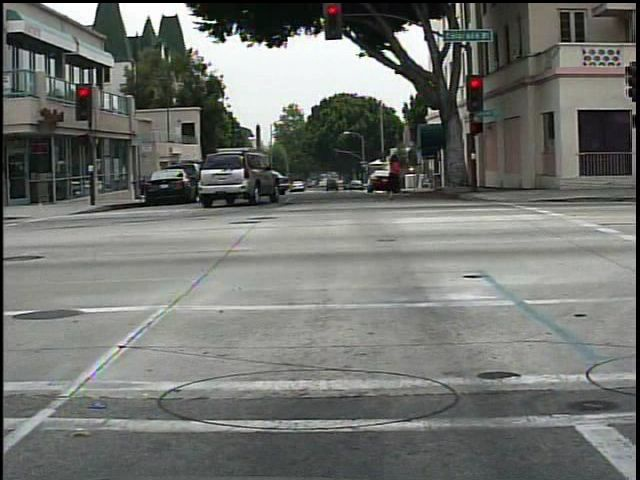person: (382, 151, 411, 199)
